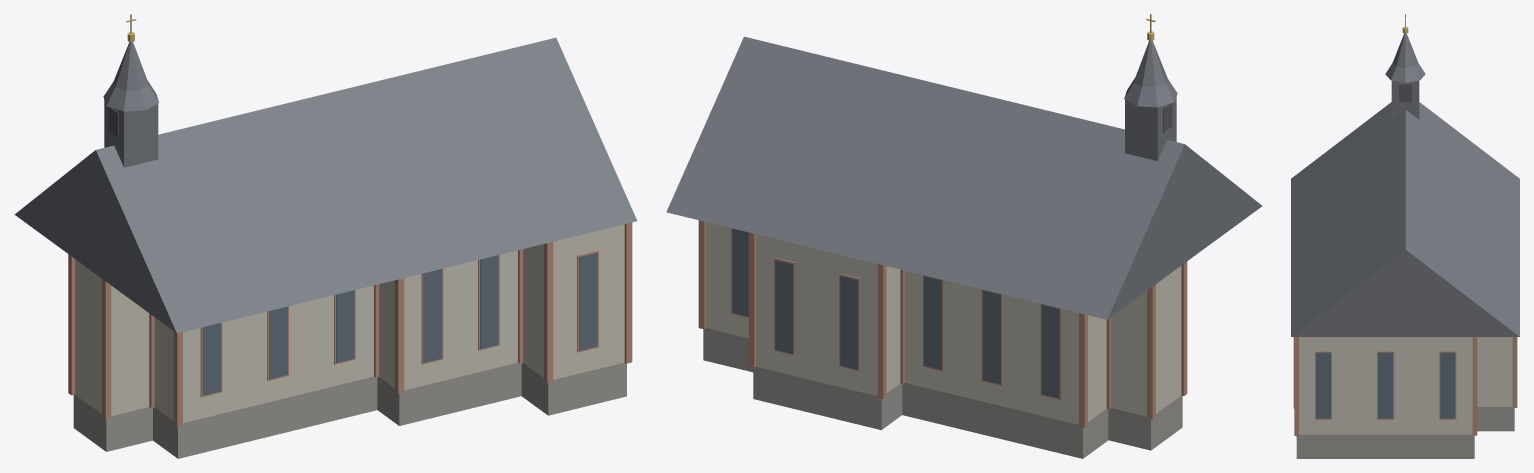
Rendered from landmark-kandern-st-franz.glb.
The picture shows the model from 3 angles, left to right: view 1: azimuth 30°, elevation 25°; view 2: azimuth 150°, elevation 25°; view 3: azimuth 270°, elevation 25°; orthographic projection. The views are drawn at different scales.
Parts seen in each view (by area): view 1: building; view 2: building; view 3: building.
Boxes of the visible parts, bbox=[...] form: building: bbox=[14, 14, 637, 458]; building: bbox=[666, 14, 1262, 458]; building: bbox=[1291, 14, 1519, 458].
Size of the model in its own units: 34.94 by 31 by 21.35.
